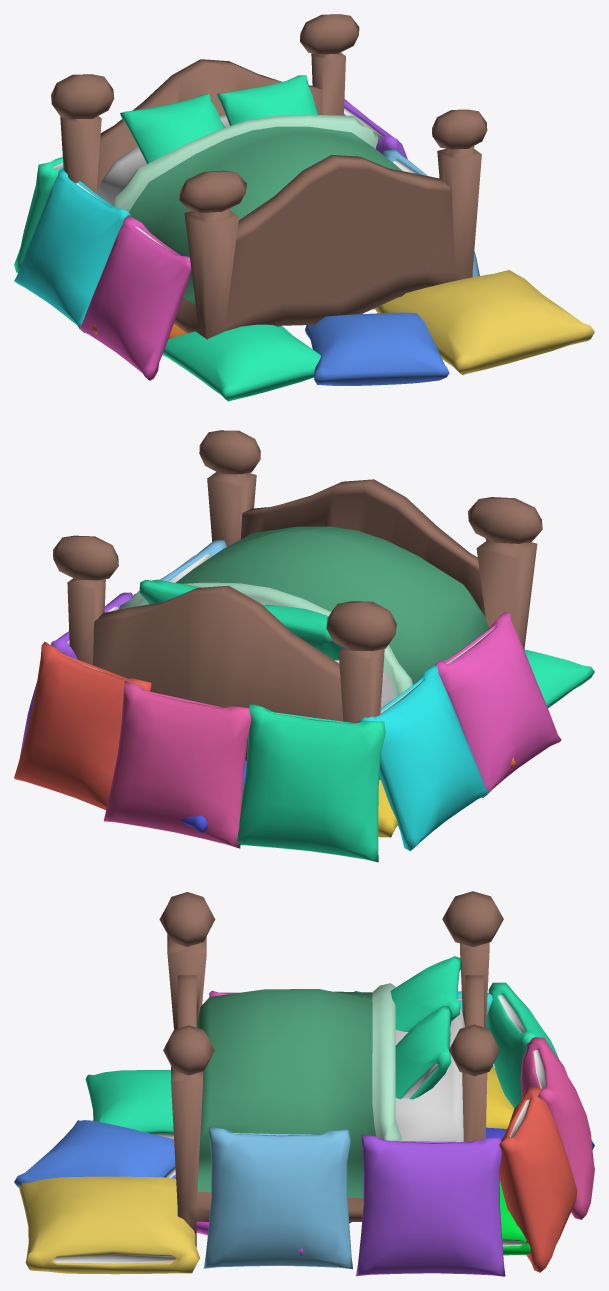
The model's file is props_double_bed_surrounded_by_pillows.fbx.
The picture shows the model from 3 angles, top to bottom: view 1: azimuth 30°, elevation 25°; view 2: azimuth 150°, elevation 25°; view 3: azimuth 270°, elevation 25°; orthographic projection. The views are drawn at different scales.
Parts seen in each view (by area): view 1: props_double_bed_surrounded_by_pillows; view 2: props_double_bed_surrounded_by_pillows; view 3: props_double_bed_surrounded_by_pillows.
Boxes of the visible parts, x1,y1,x2,y2 form: props_double_bed_surrounded_by_pillows: [14, 14, 594, 401]; props_double_bed_surrounded_by_pillows: [14, 430, 594, 862]; props_double_bed_surrounded_by_pillows: [14, 891, 594, 1276].
Size of the model in its own units: 4.66 by 5.71 by 2.57.
